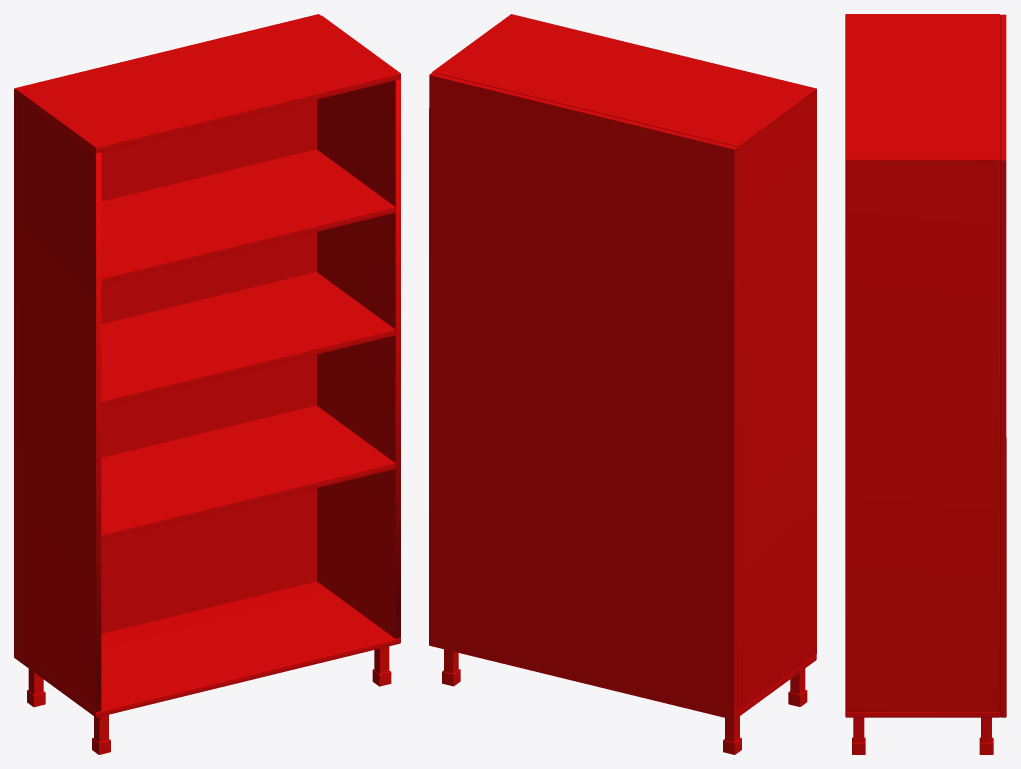
Rendered from Medical_cabinet_1.fbx.
The picture shows the model from 3 angles, left to right: view 1: azimuth 30°, elevation 25°; view 2: azimuth 150°, elevation 25°; view 3: azimuth 270°, elevation 25°; orthographic projection. The views are drawn at different scales.
Visible parts, largest first — view 1: L:pCube108; view 2: L:pCube108; view 3: L:pCube108.
Part boxes in pixels (x1,y1,x2,y2): L:pCube108: (14,14,400,754); L:pCube108: (429,14,816,754); L:pCube108: (845,14,1006,754).
Size of the model in its own units: 118 by 226 by 55.14.
